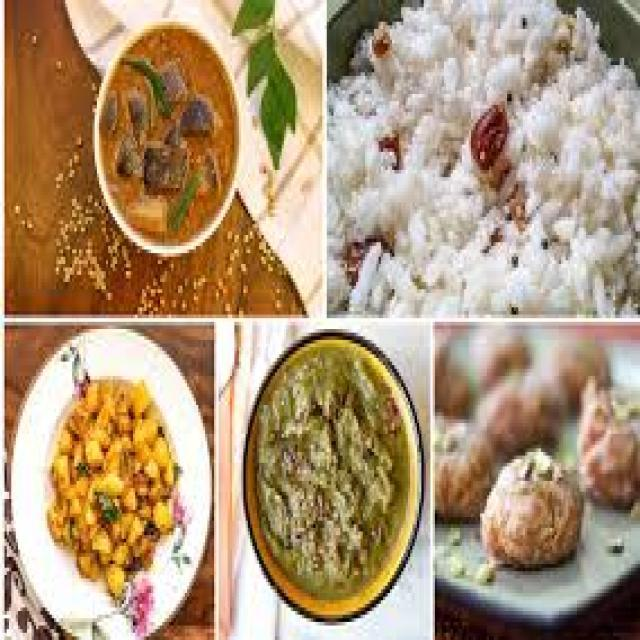pickle: (464, 97, 521, 191)
rice: (510, 35, 637, 309)
veg-fry: (104, 24, 233, 249), (48, 386, 178, 591), (479, 439, 582, 590)
